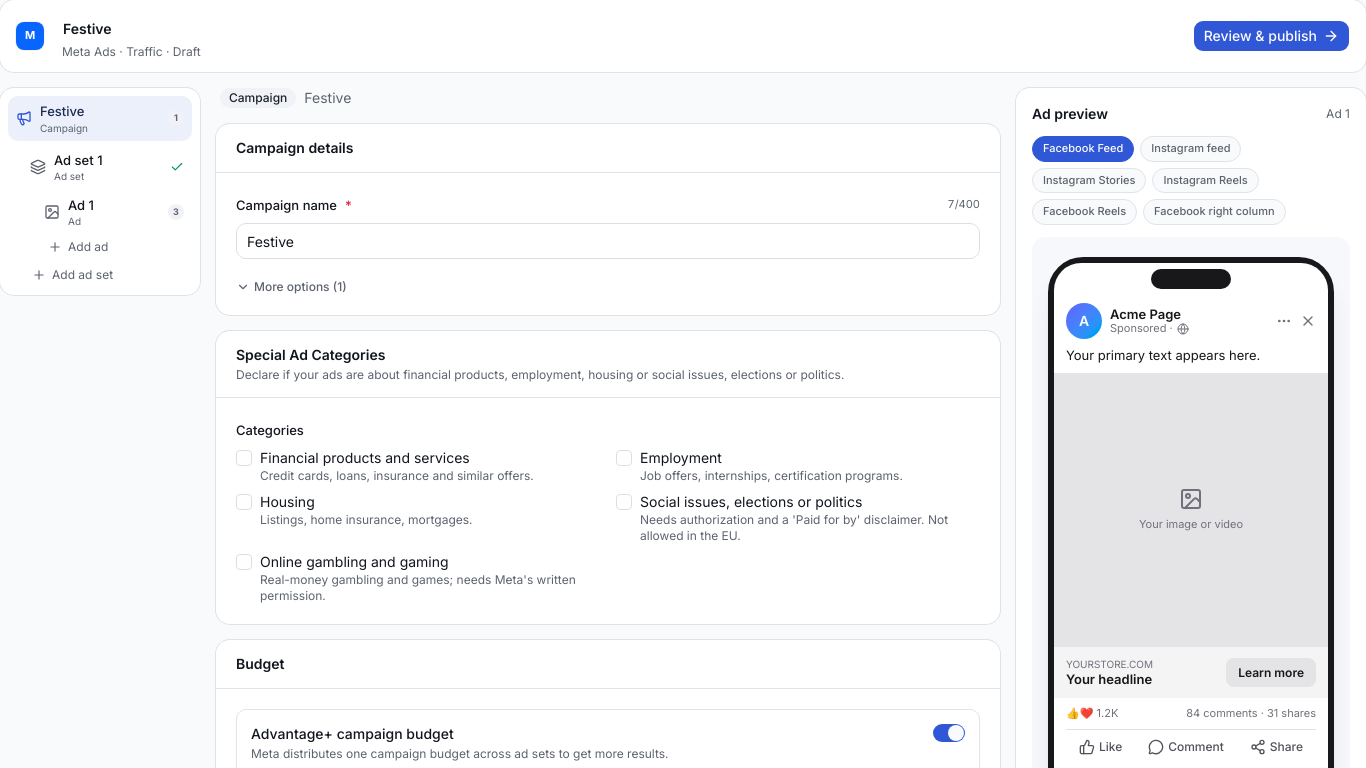
CampaignBuilder › auto-selects the only Facebook Page, so its issue disappears
Expected: the navigation bar is shown, [0, 88, 200, 294]
Click the button "Ad 1 Ad 3" at point(114, 212), box [36, 190, 192, 234]
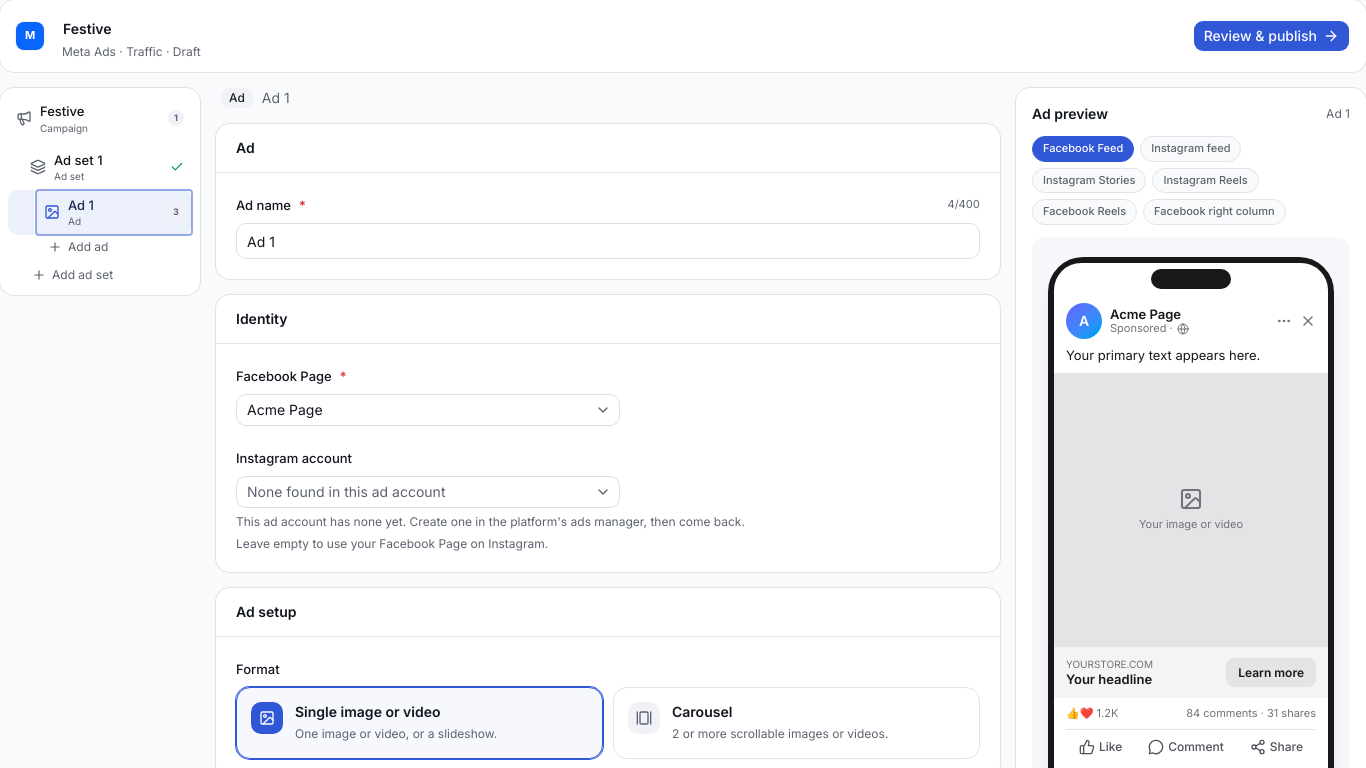
Result: the dropdown named "Facebook Page" reads "Acme Page" at [236, 394, 620, 426]
